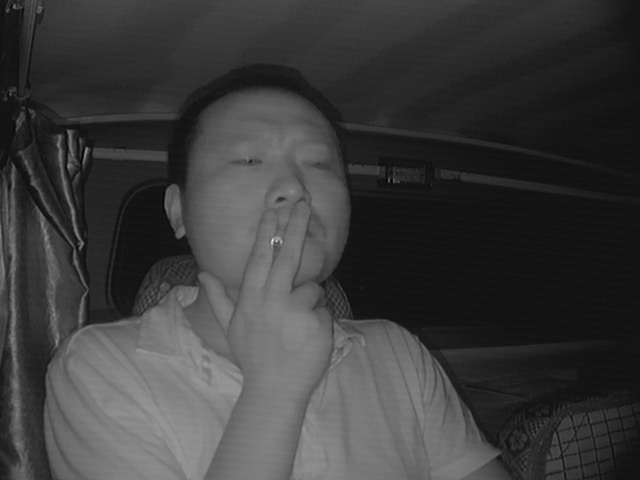hand: (238, 210, 332, 340)
